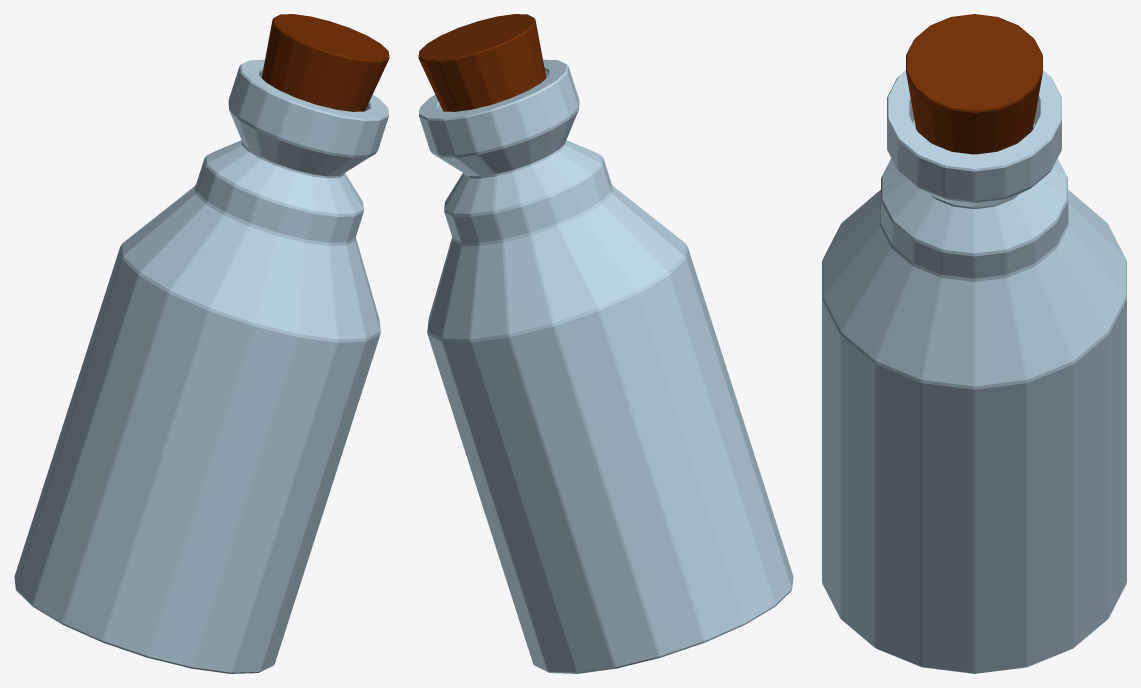
Rendered from hide potion.FBX.
The picture shows the model from 3 angles, left to right: view 1: azimuth 30°, elevation 25°; view 2: azimuth 150°, elevation 25°; view 3: azimuth 270°, elevation 25°; orthographic projection. The views are drawn at different scales.
Visible parts, largest first — view 1: hide potion; view 2: hide potion; view 3: hide potion.
Boxes of the visible parts, x1=… form: hide potion: x1=14, y1=14, x2=389, y2=673; hide potion: x1=418, y1=14, x2=793, y2=673; hide potion: x1=822, y1=14, x2=1126, y2=673.
Size of the model in its own units: 16.25 by 26.74 by 10.95.
